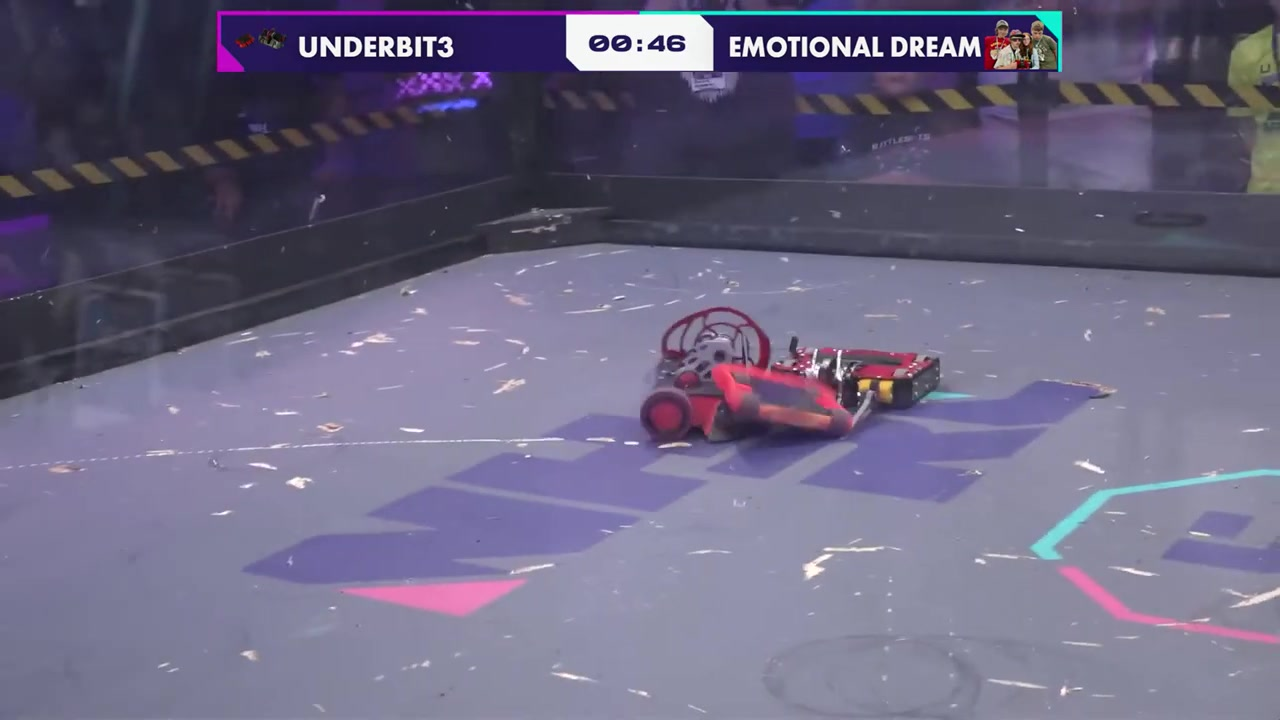combatbot: (640, 307, 768, 446), (844, 337, 942, 434)
minibot: (715, 361, 850, 438)
